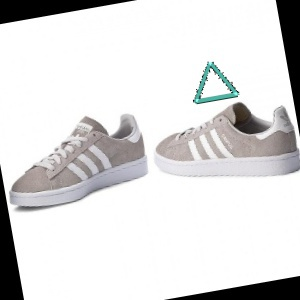triangle: (188, 55, 239, 109)
